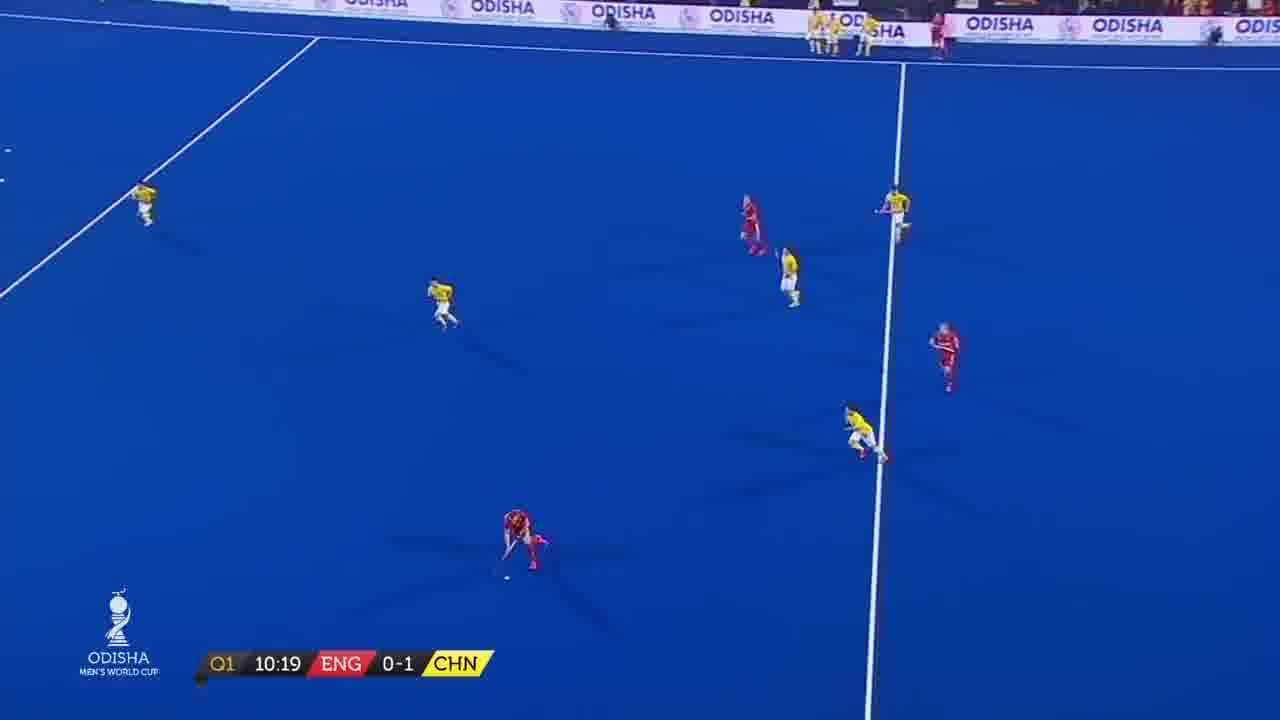ball: (498, 568, 516, 590)
